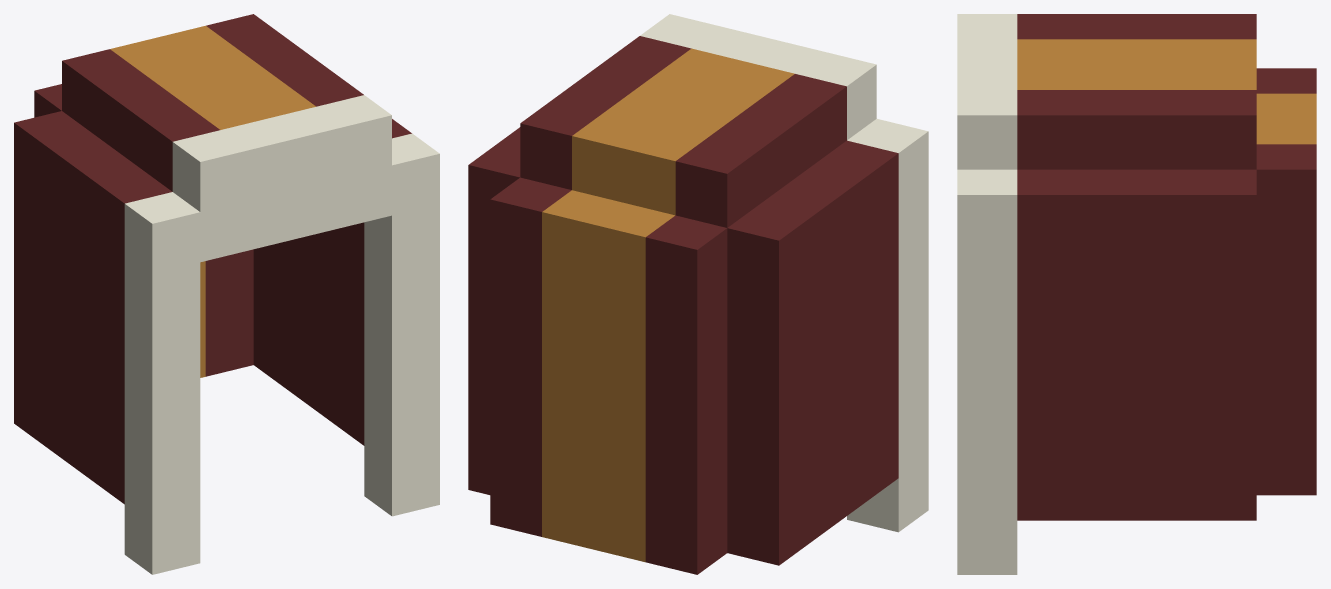
File: char-110-helm_lgt_3a_du_color.obj
The picture shows the model from 3 angles, left to right: view 1: azimuth 30°, elevation 25°; view 2: azimuth 150°, elevation 25°; view 3: azimuth 270°, elevation 25°; orthographic projection. The views are drawn at different scales.
Parts seen in each view (by area): view 1: helm_lgt_3a_du_color; view 2: helm_lgt_3a_du_color; view 3: helm_lgt_3a_du_color.
Boxes of the visible parts, <box> form: helm_lgt_3a_du_color: <box>14,14,439,574</box>; helm_lgt_3a_du_color: <box>468,14,928,574</box>; helm_lgt_3a_du_color: <box>957,14,1316,574</box>.
Bounding box in the file's own units: 0.6 × 0.8 × 0.6.
1 material, 1 textured.
